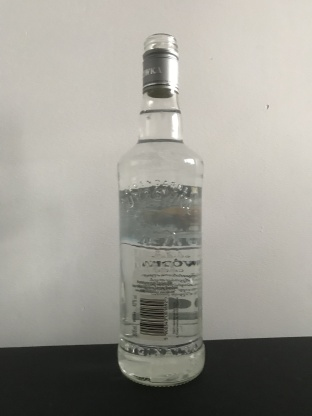nakretka: (140, 30, 180, 99)
